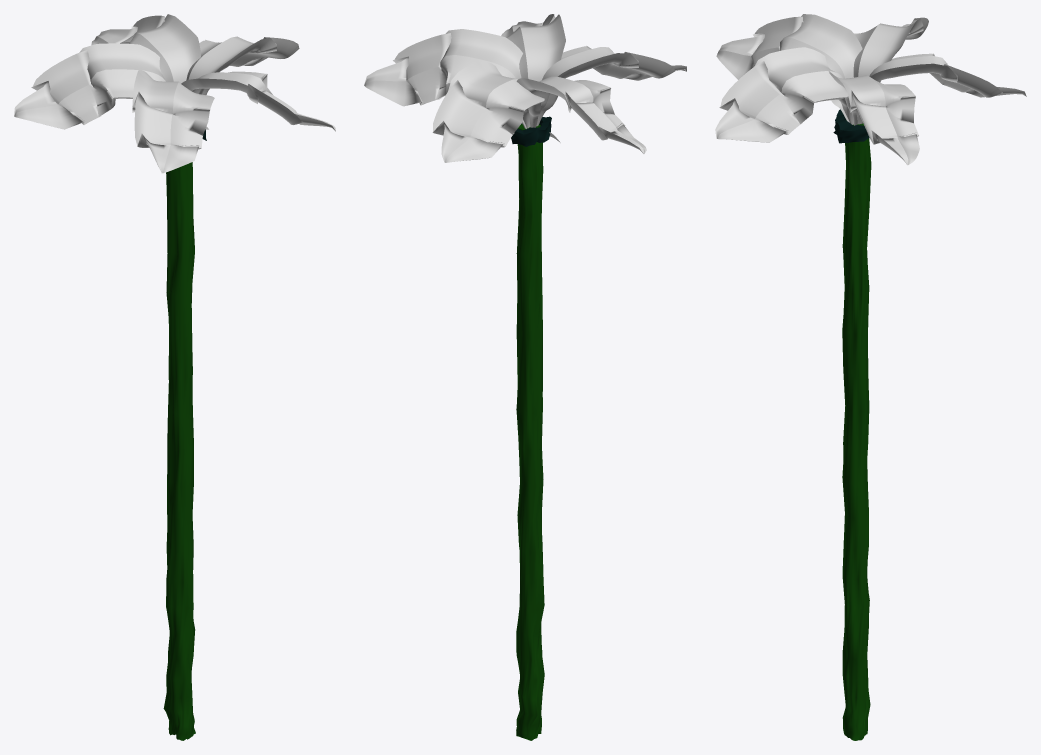
Rendered from Opened_flower.FBX.
3 renders of one model, left to right at view 1: azimuth 30°, elevation 25°; view 2: azimuth 150°, elevation 25°; view 3: azimuth 270°, elevation 25°, orthographic.
Parts seen in each view (by area): view 1: Stem, petal001, petal002, petal, petal004, petal003; view 2: Stem, petal, petal004, petal001, petal002, petal003, Donut001; view 3: Stem, petal003, petal002, petal004, petal, petal001, Donut001.
Part boxes in pixels (box(x1,y1,x2,y2)): Stem: box(163, 162, 195, 740); petal001: box(14, 43, 165, 129); petal002: box(132, 70, 214, 173); petal: box(91, 14, 200, 83); petal004: box(186, 36, 299, 94); petal003: box(181, 71, 335, 131); Stem: box(516, 124, 544, 740); petal: box(432, 60, 544, 162); petal004: box(364, 29, 526, 128); petal001: box(516, 76, 646, 153); petal002: box(532, 45, 686, 127); petal003: box(501, 14, 565, 126); Donut001: box(511, 116, 551, 146); Stem: box(842, 120, 871, 740); petal003: box(715, 47, 857, 142); petal002: box(716, 14, 862, 122); petal004: box(828, 71, 919, 165); petal: box(854, 53, 1026, 125); petal001: box(853, 17, 928, 123); Donut001: box(833, 109, 869, 143).
Size of the model in its own units: 1.45 by 1.39 by 3.38.
